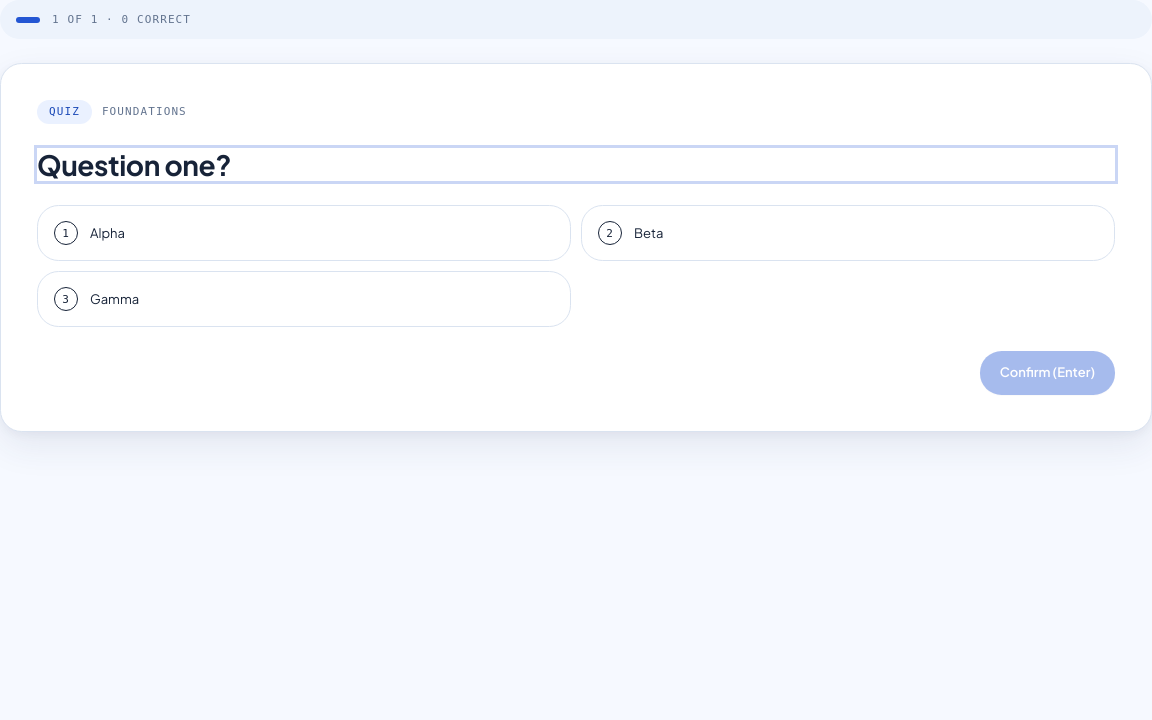
Test: ArenaSession › selecting the correct option and confirming with Enter shows feedback naming it correct
This screenshot has width=1152, height=720.
Click the button "2 Beta". click: (610, 233)
box: [581,205,1115,261]
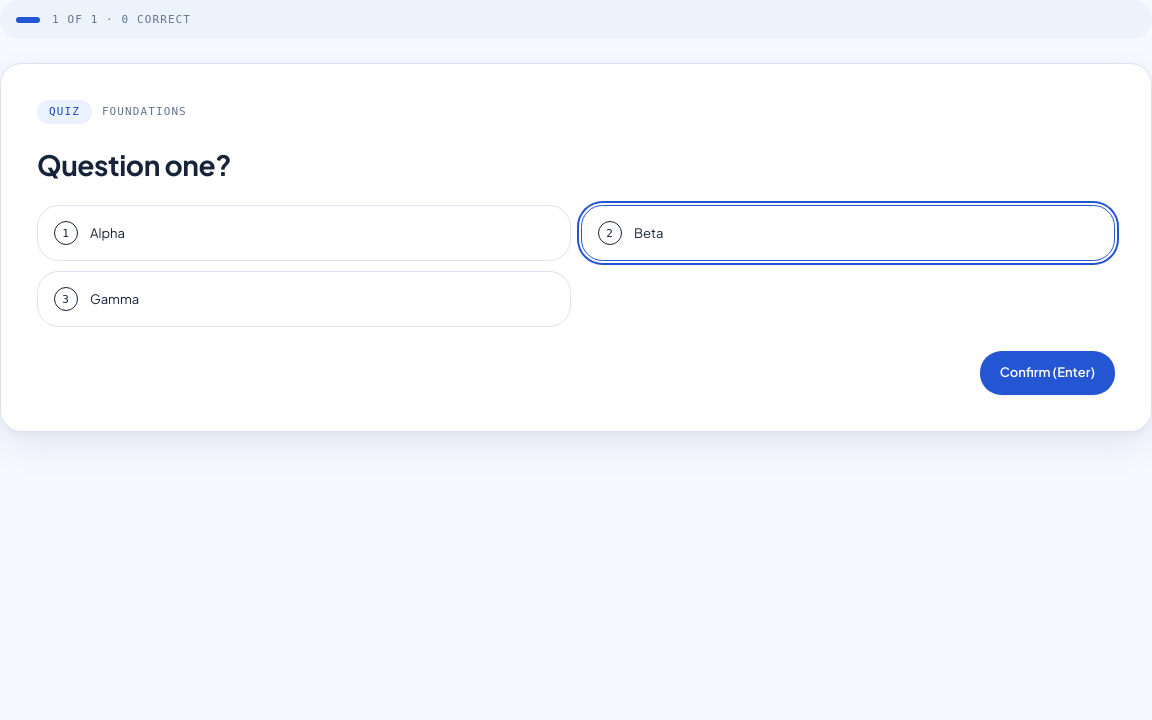
expect the button "2 Beta" is pressed: met, box [581,205,1115,261]
Press Enter
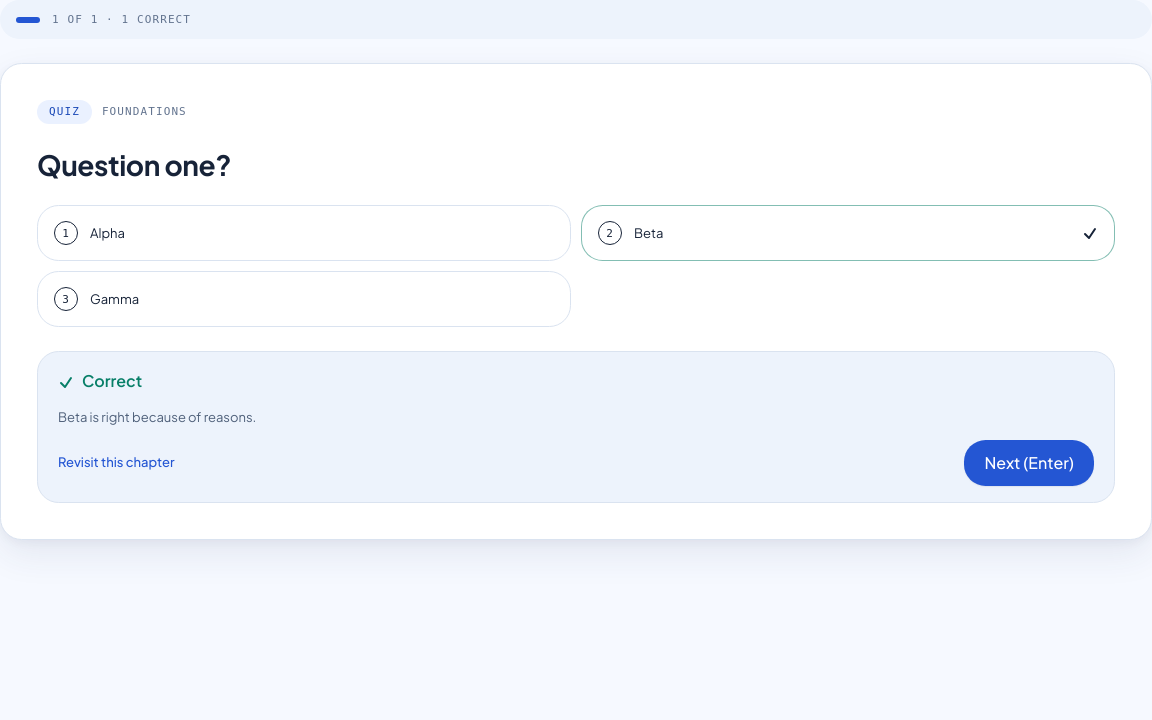
expect the message shows "Correct": met, box [82,370,142,391]
expect the text "Beta is right because of reasons." is shown: met, box [58,409,256,425]
